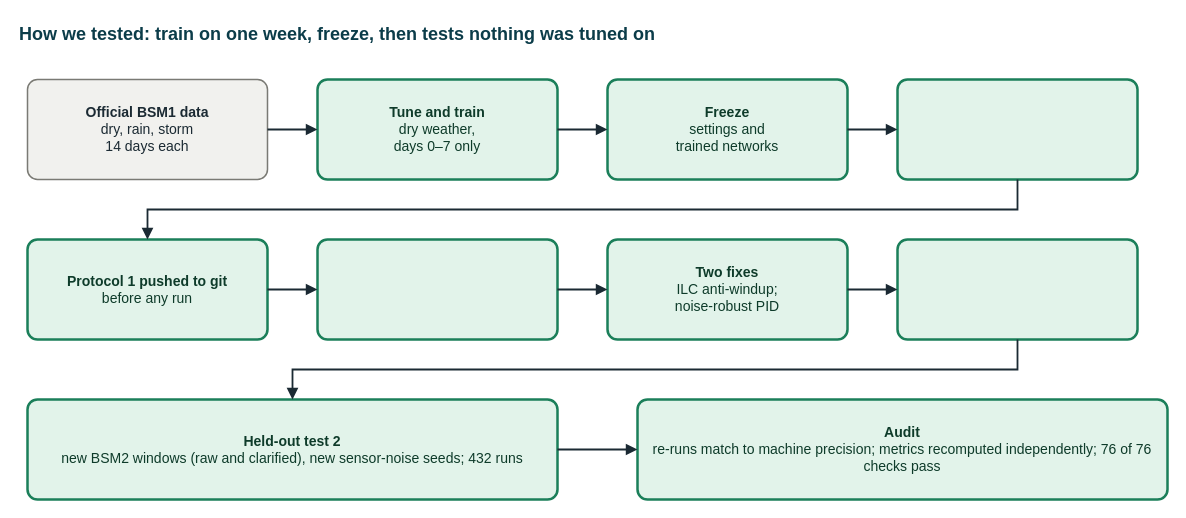
Some shapes in this 1186 by 518 pixel diagram are drawn without their labels. Here are the shapes that lost their labels. From the top down, the centre of each, then its label:
At (1017,129): "Test week days 7–14, every weather (315 runs)".
At (437,289): "Held-out test 1 new influent (BSM2), official sensors, delay".
At (1017,289): "Protocol 2 pushed before any run".
